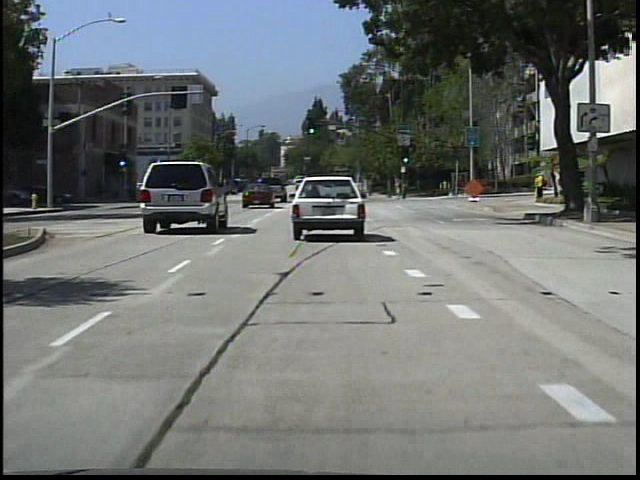person: (395, 173, 409, 203)
